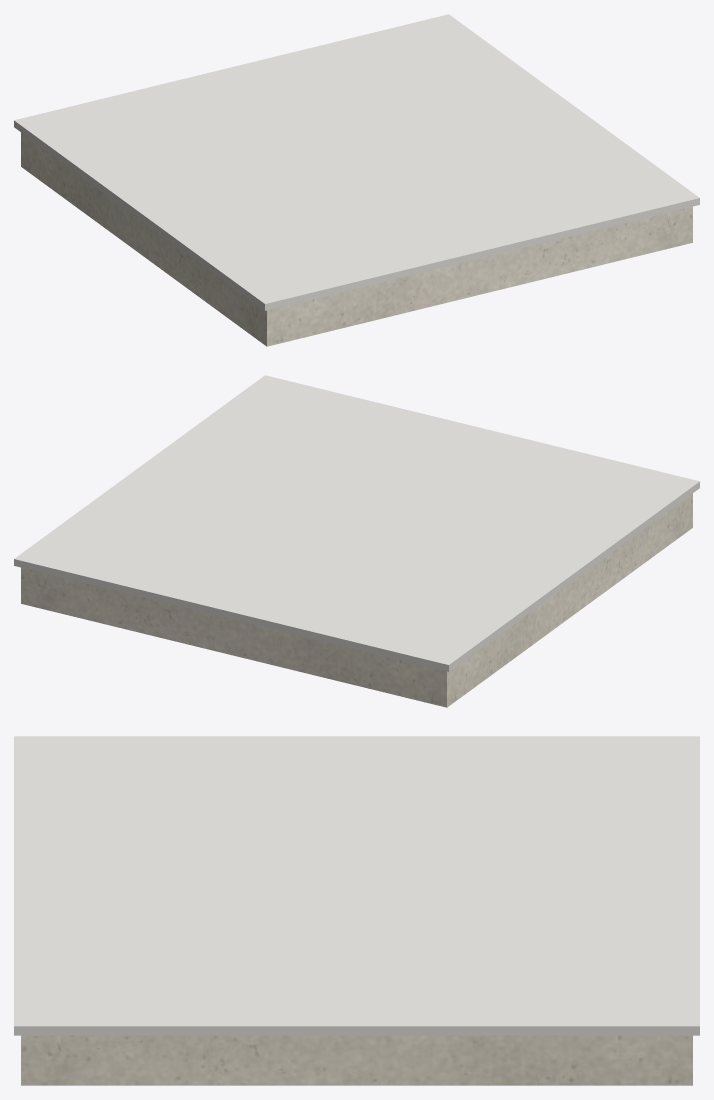
Rendered from floor_tile_mall.glb.
The picture shows the model from 3 angles, top to bottom: view 1: azimuth 30°, elevation 25°; view 2: azimuth 150°, elevation 25°; view 3: azimuth 270°, elevation 25°; orthographic projection. The views are drawn at different scales.
Visible parts, largest first — view 1: floor_tile_mall_floor, floor_tile_mall_plaster; view 2: floor_tile_mall_floor, floor_tile_mall_plaster; view 3: floor_tile_mall_floor, floor_tile_mall_plaster.
Part boxes in pixels (bbox=[...]): floor_tile_mall_floor: bbox=[14, 14, 699, 310]; floor_tile_mall_plaster: bbox=[21, 132, 692, 346]; floor_tile_mall_floor: bbox=[14, 375, 699, 671]; floor_tile_mall_plaster: bbox=[21, 493, 692, 707]; floor_tile_mall_floor: bbox=[14, 736, 699, 1035]; floor_tile_mall_plaster: bbox=[21, 1035, 692, 1085].
Size of the model in its own units: 2 by 0.2 by 2.
2 materials, 1 textured.
